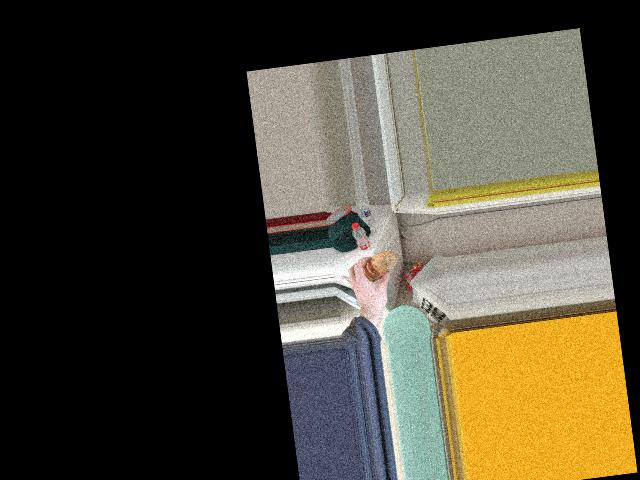sweet_potato: (360, 249, 394, 283)
